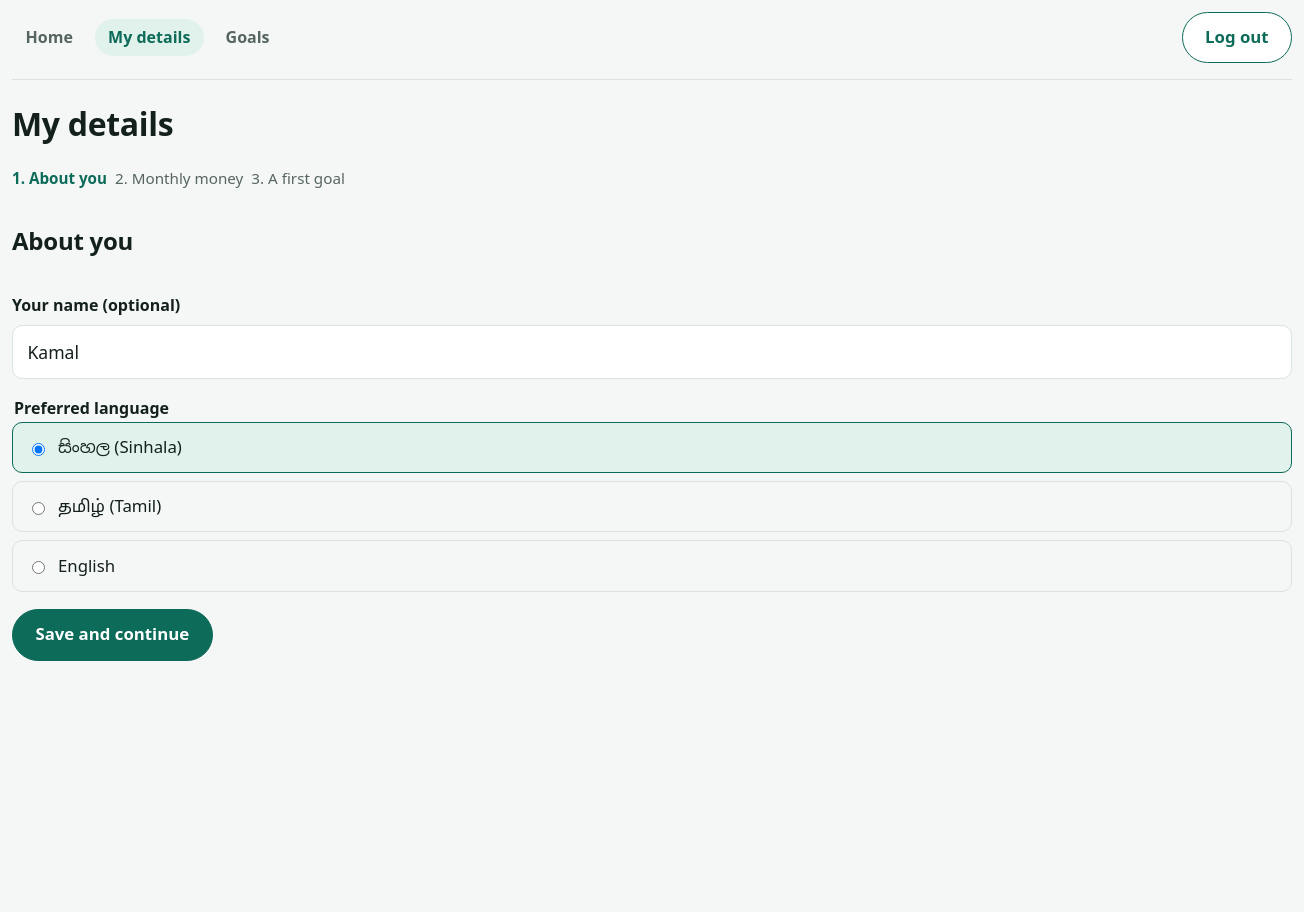
Test: /onboarding › shows the API's validation messages next to the fields and stays on the step
The width and height of the screenshot is (1304, 912).
Click the button "Save and continue" at (112, 635), box [12, 609, 213, 661]
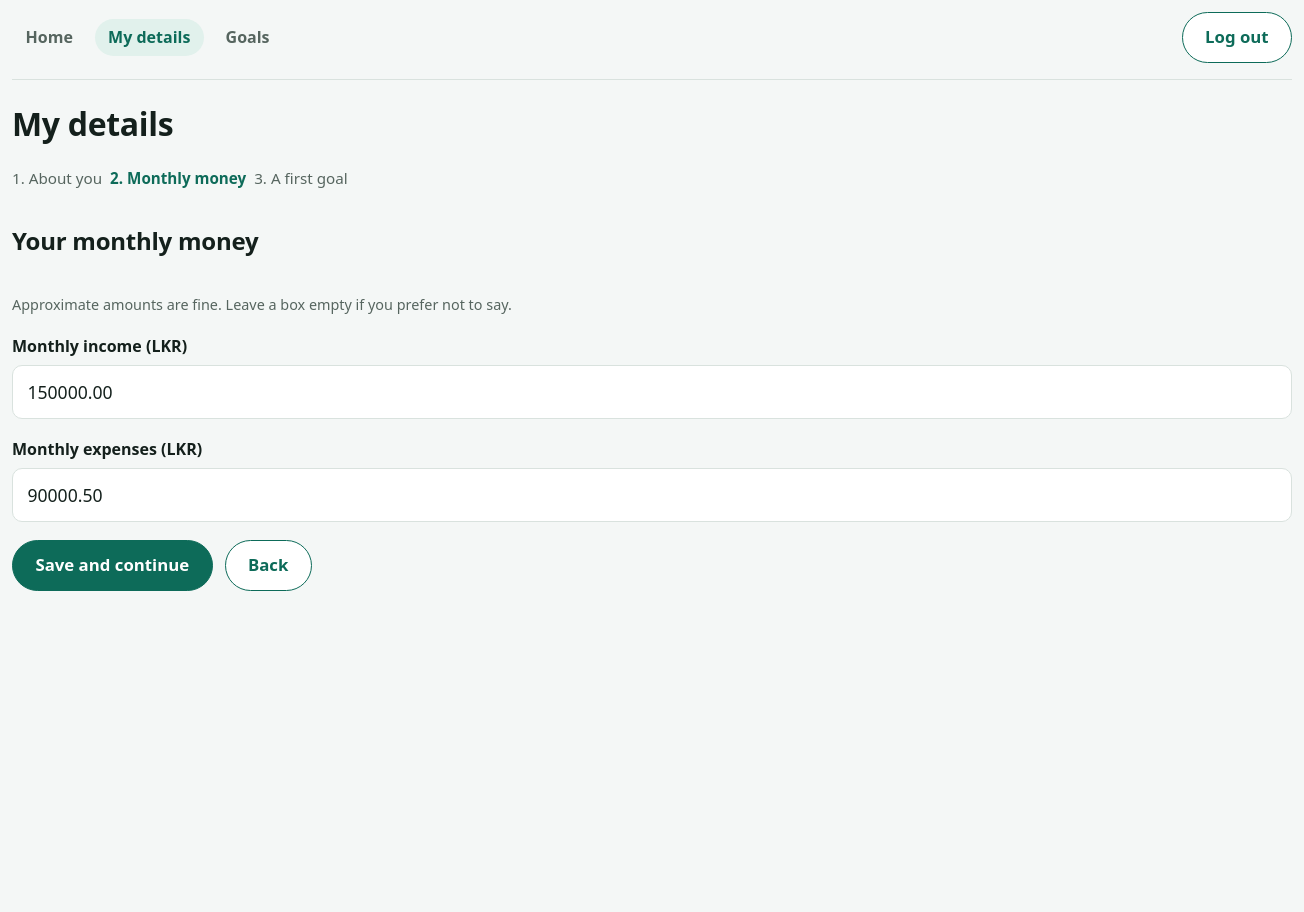
Replace the text in the field labelled "Monthly income (LKR)" with "100.123" at (652, 392), box [12, 365, 1292, 419]
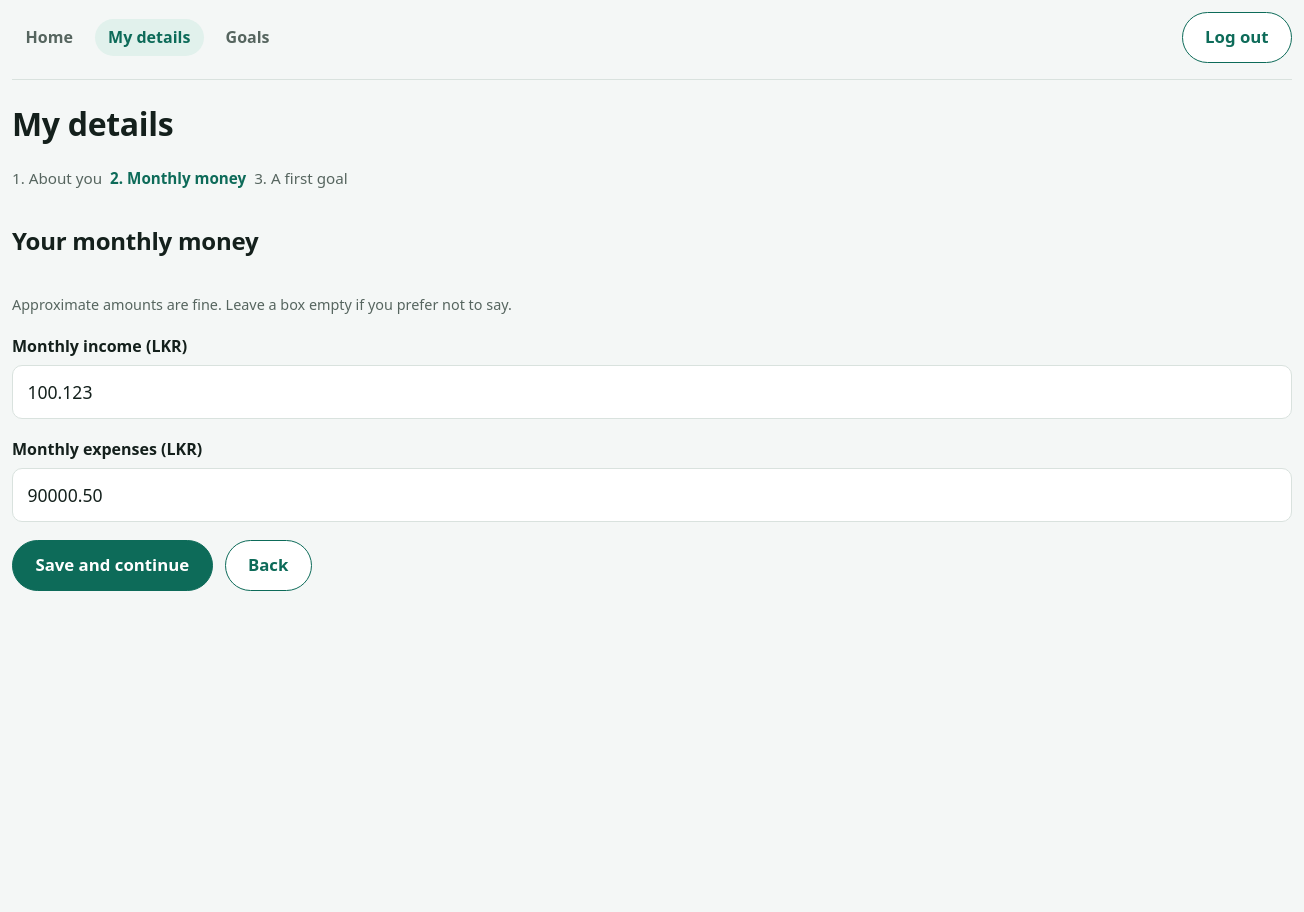
Click the button "Save and continue" at (112, 566), box [12, 540, 213, 591]
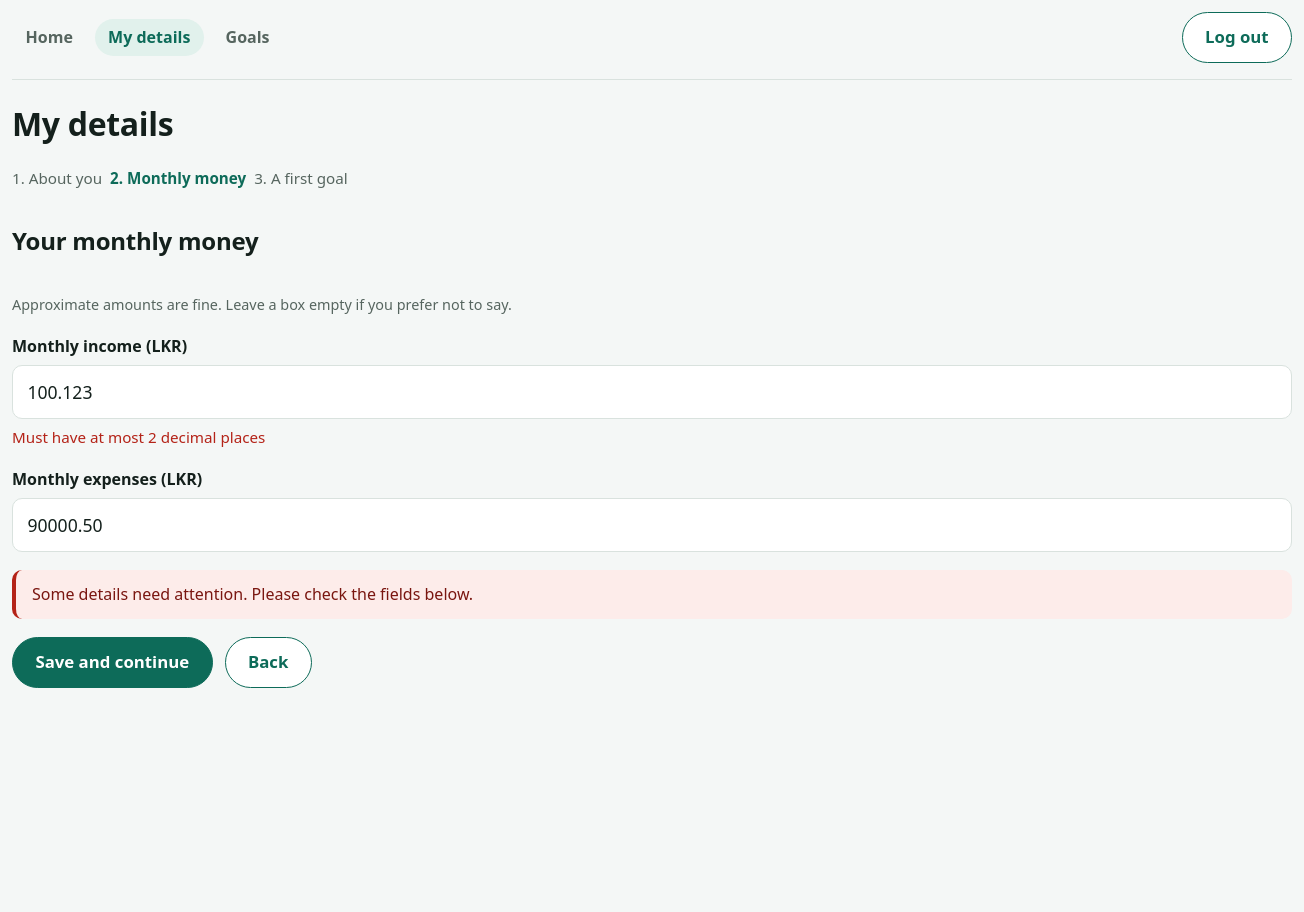
Now the heading "Your monthly money" is shown, box [12, 224, 258, 257]
Now the message reads "Some details need attention. Please check the fields below.", box [32, 583, 473, 605]
Now the text "Must have at most 2 decimal places" is shown, box [12, 427, 265, 447]
